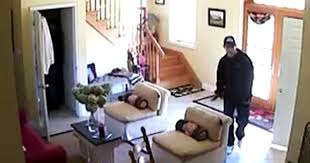Person: (212, 34, 256, 153)
